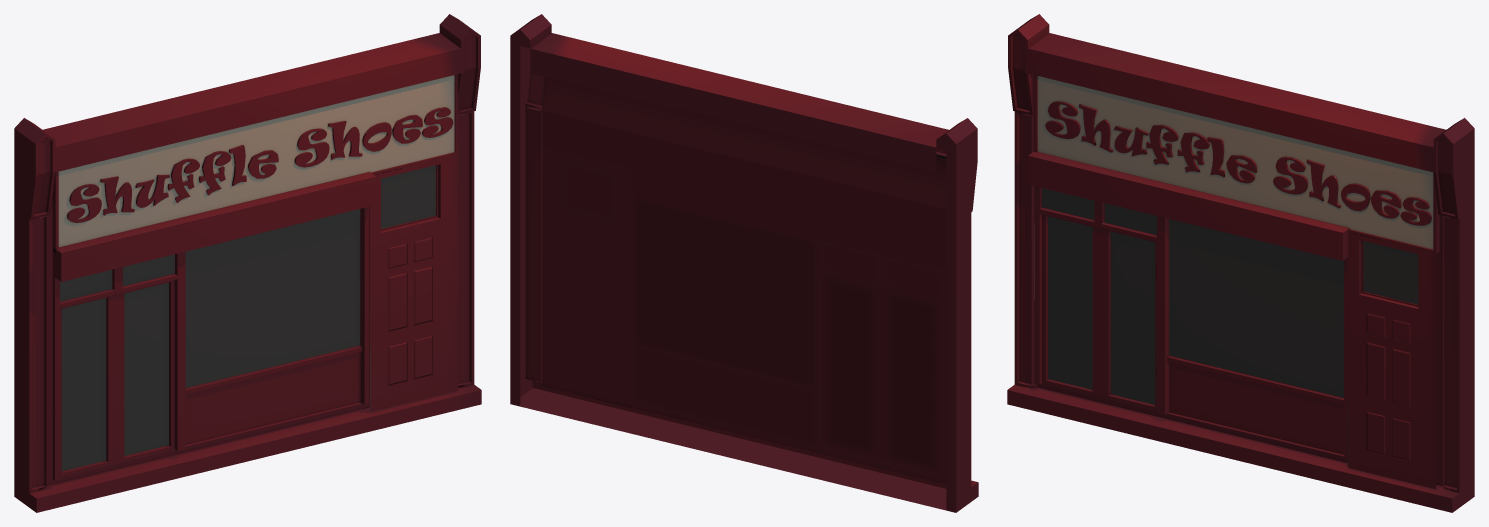
The picture shows the model from 3 angles, left to right: view 1: azimuth 30°, elevation 25°; view 2: azimuth 150°, elevation 25°; view 3: azimuth 330°, elevation 25°; orthographic projection.
Visible parts, largest first — view 1: Text; view 2: Text; view 3: Text.
Boxes of the visible parts, left/top/right/bottom form: Text: left=14, top=14, right=481, bottom=512; Text: left=510, top=14, right=978, bottom=512; Text: left=1007, top=14, right=1474, bottom=512.
Bounding box in the file's own units: 951 × 769 × 90.44.
1 material, 1 textured.
